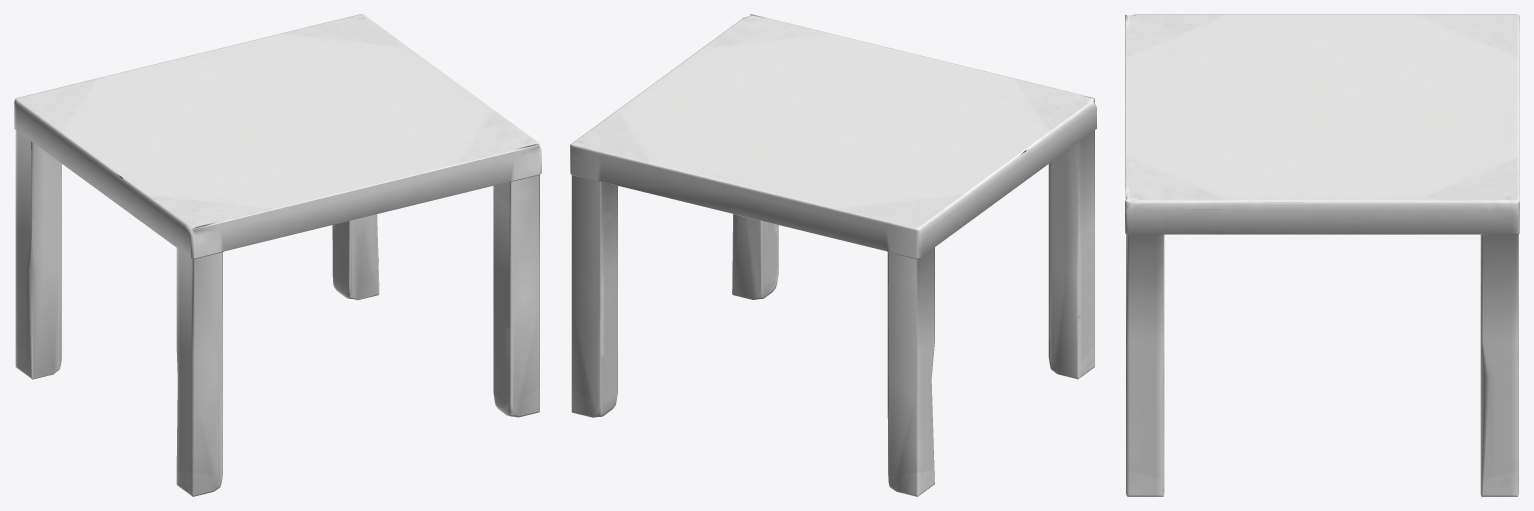
The model's file is white_minimalist_tabl_0127182025_texture.glb.
3 renders of one model, left to right at view 1: azimuth 30°, elevation 25°; view 2: azimuth 150°, elevation 25°; view 3: azimuth 270°, elevation 25°, orthographic. The views are drawn at different scales.
Visible parts, largest first — view 1: Mesh_0; view 2: Mesh_0; view 3: Mesh_0.
Part boxes in pixels (x1=…): Mesh_0: x1=14, y1=14, x2=541, y2=496; Mesh_0: x1=570, y1=14, x2=1096, y2=496; Mesh_0: x1=1125, y1=14, x2=1519, y2=496.
Bounding box in the file's own units: 0.693 × 0.508 × 0.6133.
Materials: 1 (1 with a texture image).
